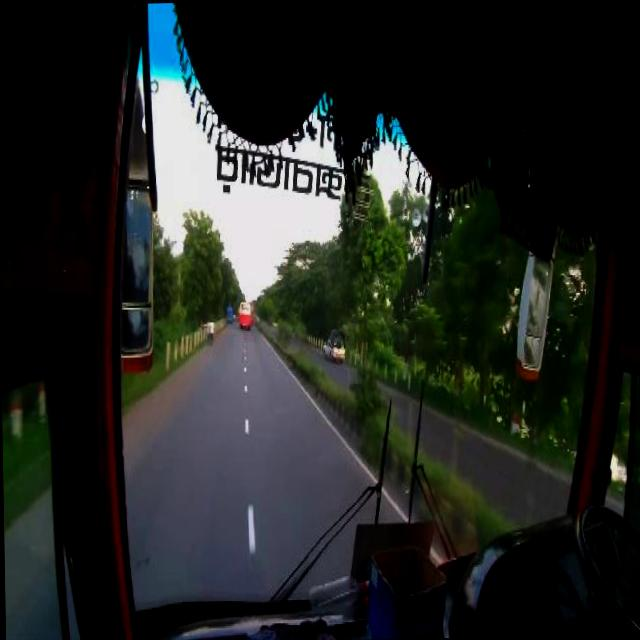bus: (0, 21, 638, 640), (237, 300, 250, 328)
car: (319, 325, 345, 361)
